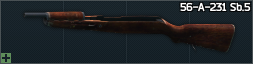SKS TOZ wooden stock 56-A-231 Sb.5: (0, 0, 253, 64)
